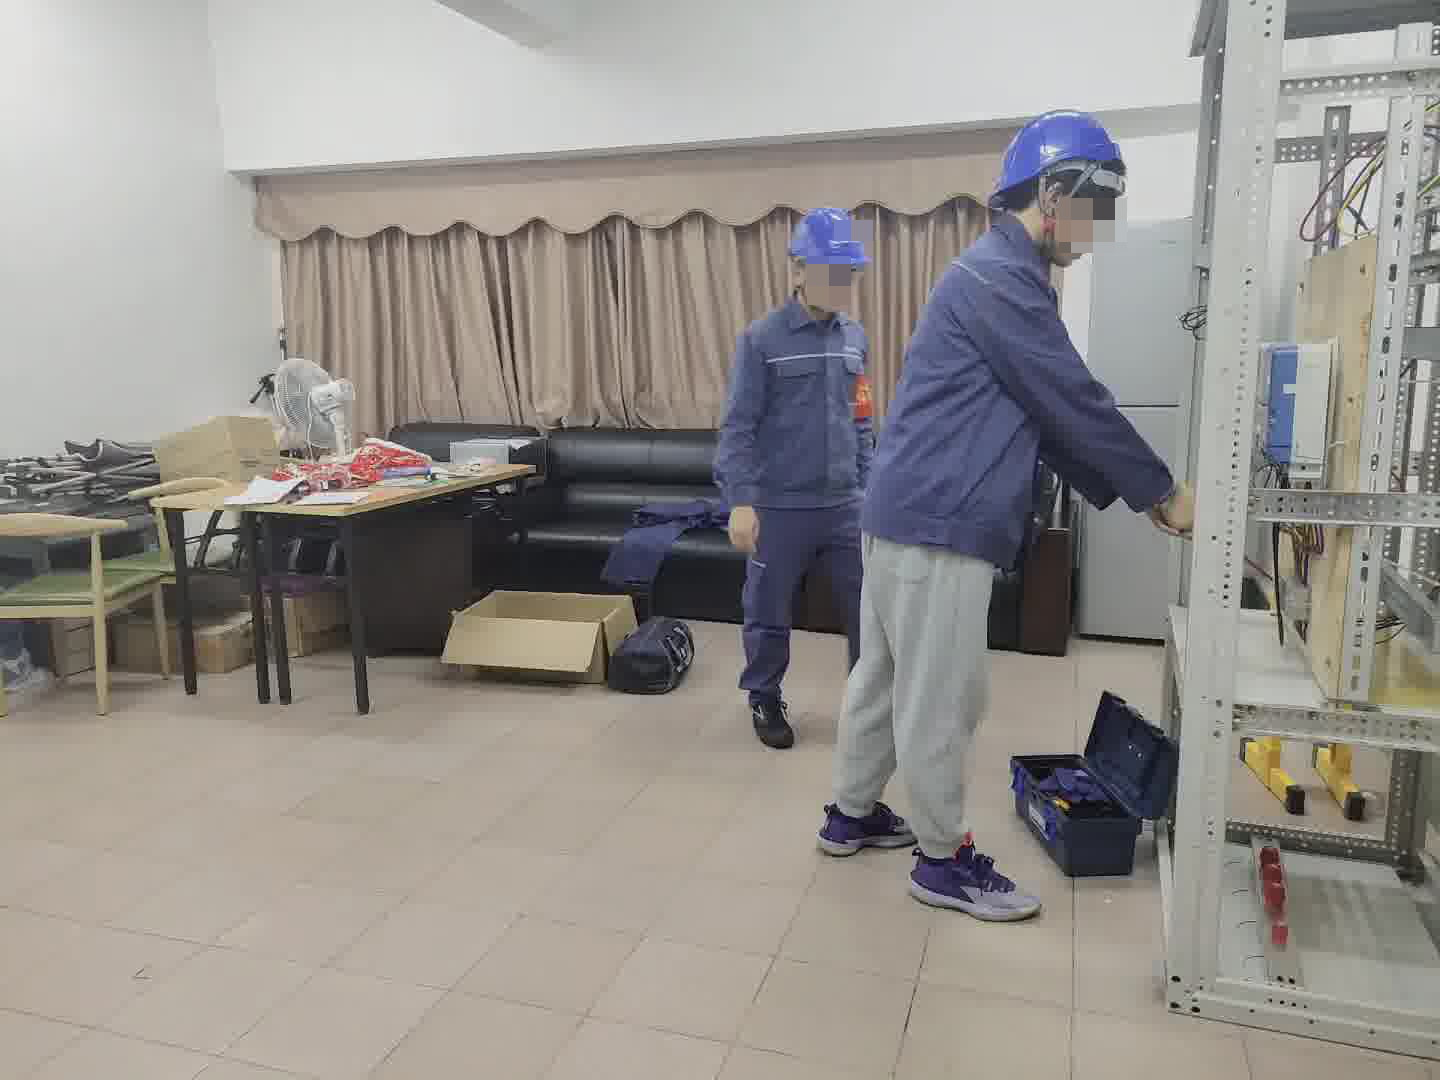badge: (849, 369, 878, 423)
downcloth: (831, 531, 996, 860)
downsuit: (738, 519, 863, 706)
fhalt: (994, 111, 1130, 270)
halt: (782, 207, 875, 311)
hand: (1146, 481, 1198, 541), (720, 504, 766, 551)
inear: (1032, 170, 1089, 262), (788, 258, 817, 302)
person: (816, 105, 1178, 927), (710, 203, 879, 750)
upsuit: (875, 219, 1173, 559), (714, 299, 873, 505)
